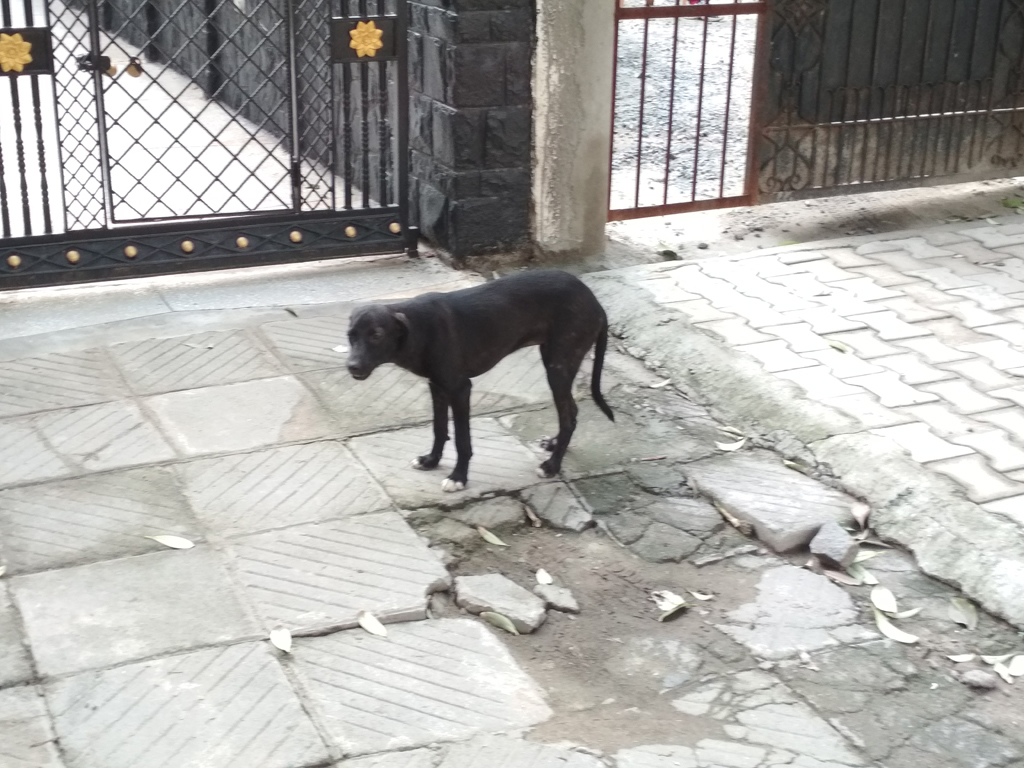dog: (346, 268, 615, 492)
